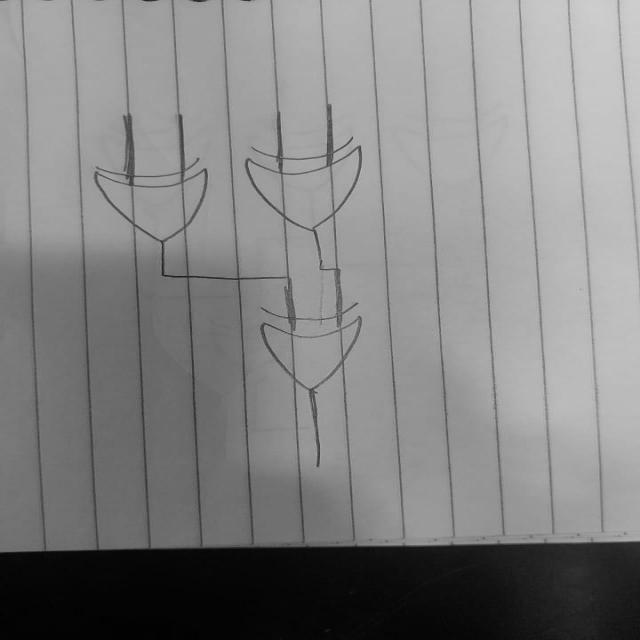XOR: (230, 294, 393, 403), (235, 124, 389, 235), (91, 155, 230, 252)
